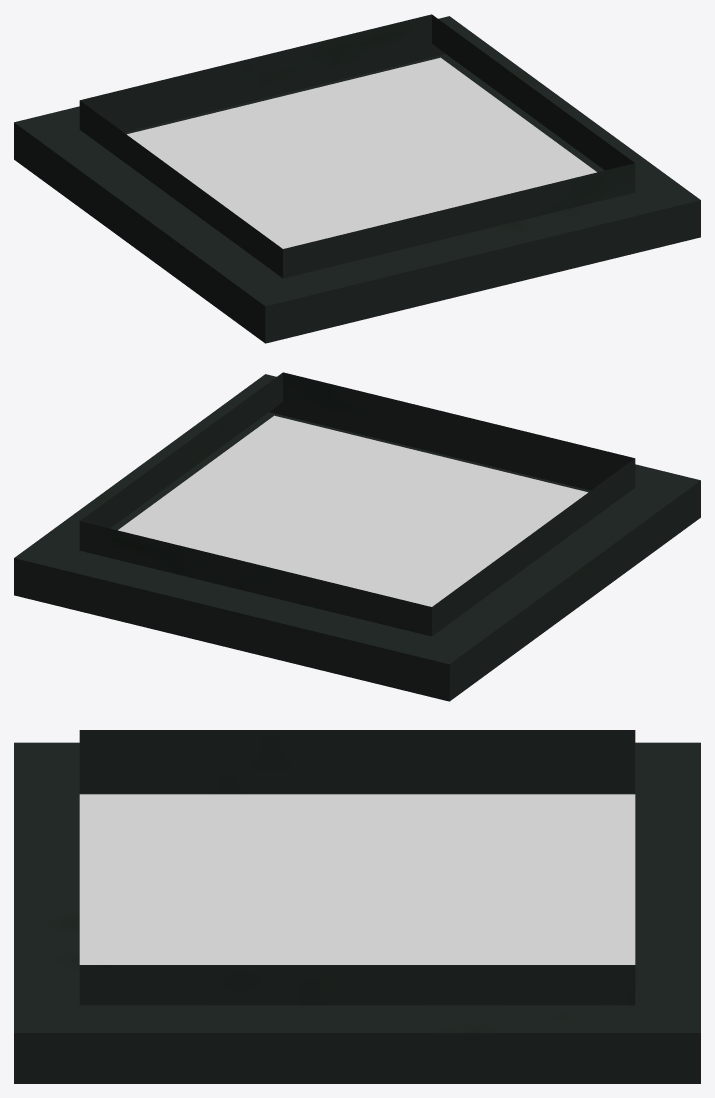
The model's file is Lamp.fbx.
3 renders of one model, top to bottom at view 1: azimuth 30°, elevation 25°; view 2: azimuth 150°, elevation 25°; view 3: azimuth 270°, elevation 25°, orthographic. The views are drawn at different scales.
Visible parts, largest first — view 1: Train.001; view 2: Train.001; view 3: Train.001.
Boxes of the visible parts, <box> form: Train.001: <box>14,14,700,343</box>; Train.001: <box>14,372,700,701</box>; Train.001: <box>14,730,700,1083</box>.
Size of the model in its own units: 1.69 by 0.2475 by 1.69.
